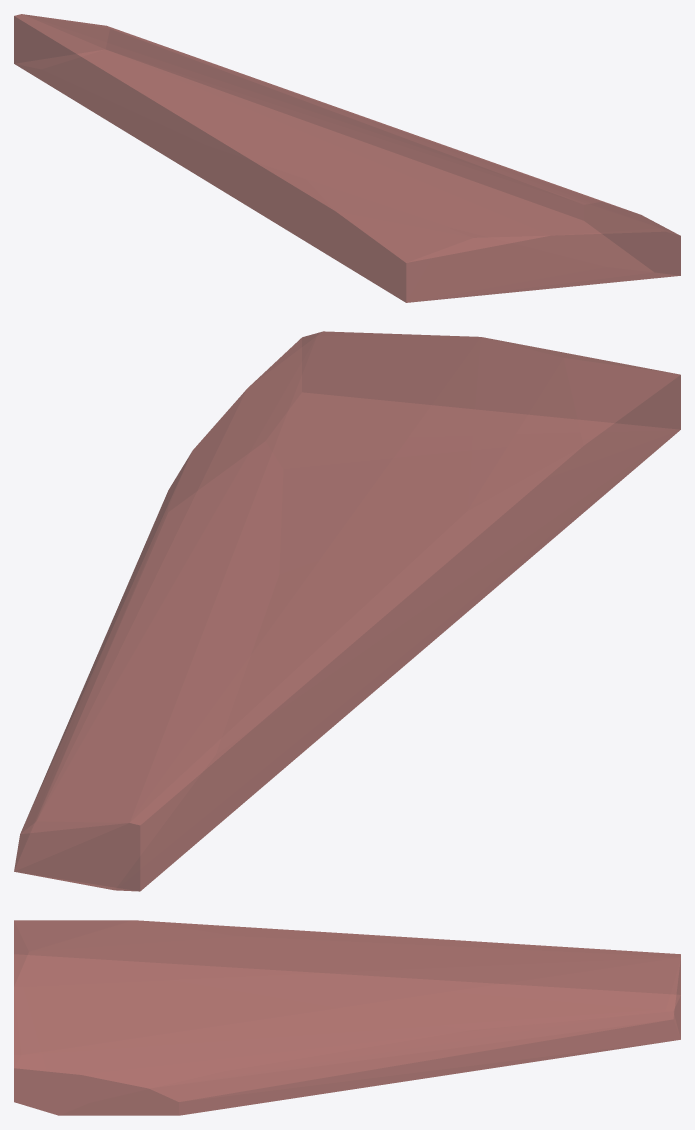
The picture shows the model from 3 angles, top to bottom: view 1: azimuth 30°, elevation 25°; view 2: azimuth 150°, elevation 25°; view 3: azimuth 270°, elevation 25°; orthographic projection. The views are drawn at different scales.
Parts seen in each view (by area): view 1: Shape_IndexedFaceSet.046_Shape_IndexedFaceSet.1985; view 2: Shape_IndexedFaceSet.046_Shape_IndexedFaceSet.1985; view 3: Shape_IndexedFaceSet.046_Shape_IndexedFaceSet.1985.
Boxes of the visible parts, x1,y1,x2,y2 form: Shape_IndexedFaceSet.046_Shape_IndexedFaceSet.1985: (14,14,680,302); Shape_IndexedFaceSet.046_Shape_IndexedFaceSet.1985: (14,331,680,891); Shape_IndexedFaceSet.046_Shape_IndexedFaceSet.1985: (14,920,680,1115).
Size of the model in its own units: 0.095 by 0.0317 by 0.2348.
